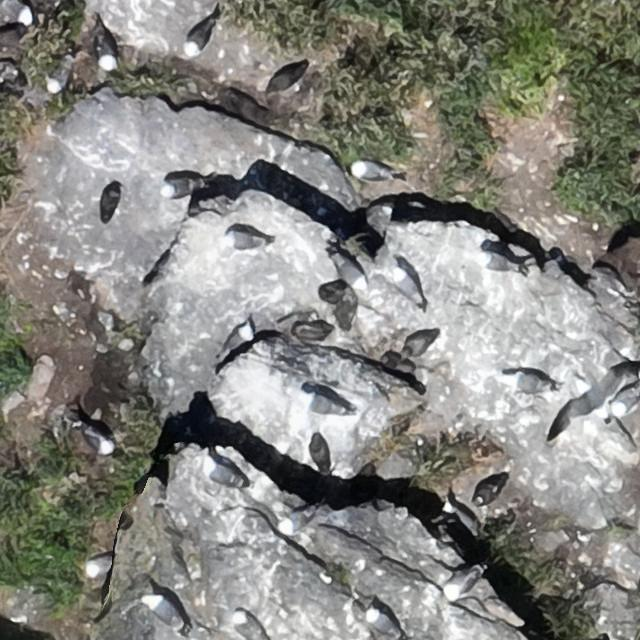F: (554, 352, 636, 433)
umineko: (445, 564, 491, 600), (333, 251, 370, 291), (393, 266, 426, 310), (280, 503, 324, 534), (297, 390, 345, 417), (205, 457, 243, 488), (232, 607, 268, 639), (223, 228, 268, 251), (150, 596, 181, 627), (83, 427, 112, 455), (612, 384, 637, 416), (187, 22, 211, 53), (48, 60, 71, 90), (225, 324, 251, 350), (353, 162, 387, 180), (96, 39, 115, 70), (368, 611, 393, 633), (163, 179, 193, 197), (86, 555, 110, 576), (475, 480, 498, 501), (514, 372, 544, 388), (11, 4, 32, 26)
